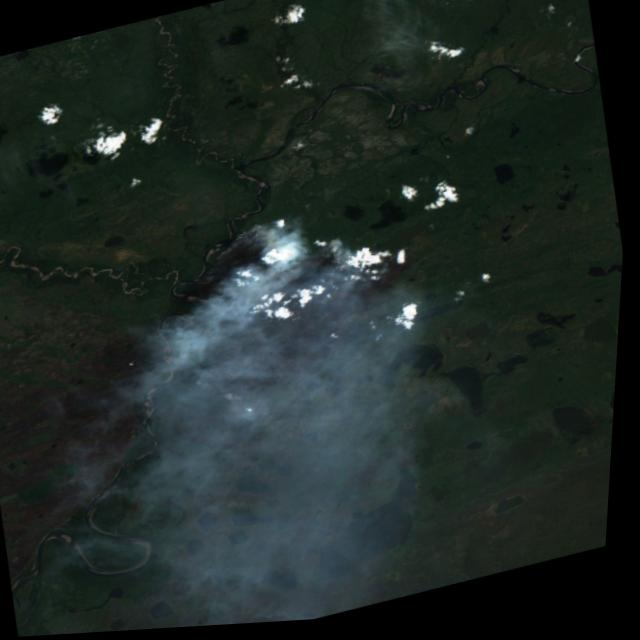fire: (221, 198, 386, 305)
